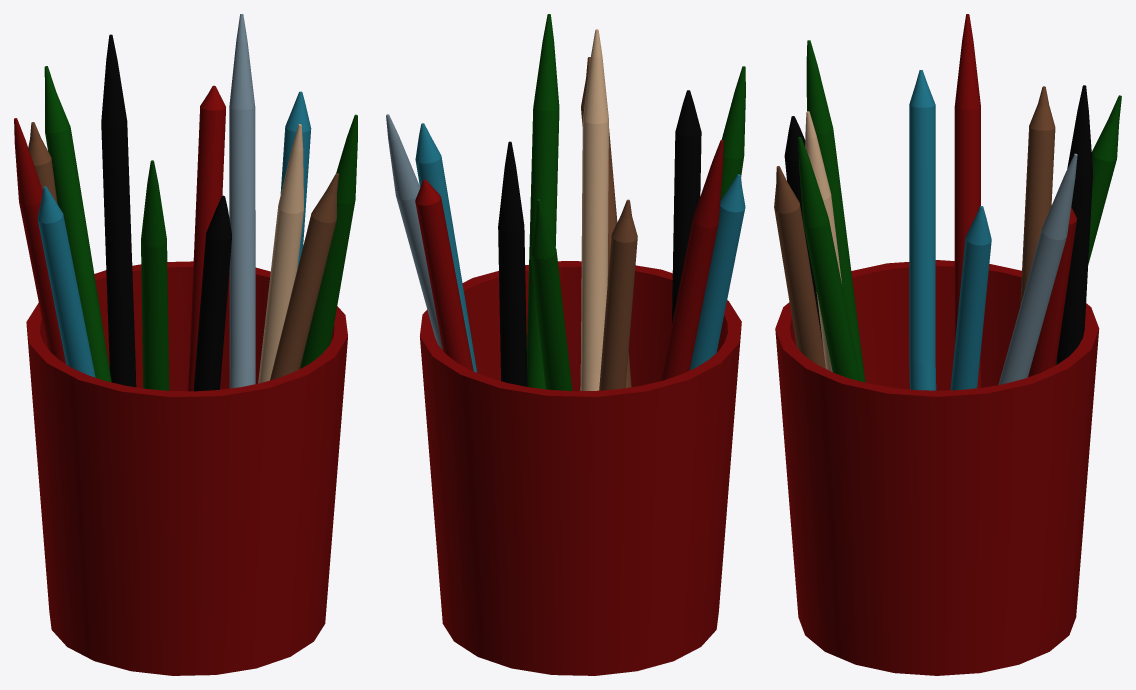
The model's file is PotCrayon_4.fbx.
The picture shows the model from 3 angles, left to right: view 1: azimuth 30°, elevation 25°; view 2: azimuth 150°, elevation 25°; view 3: azimuth 270°, elevation 25°; orthographic projection.
Parts seen in each view (by area): view 1: pPipe106, pCylinder207, pCylinder205, pCylinder230, pCylinder229, pCylinder227, pCylinder232, pCylinder214, pCylinder203, pCylinder231, pCylinder197, pCylinder235 (+2 smaller); view 2: pPipe106, pCylinder227, pCylinder197, pCylinder205, pCylinder235, pCylinder214, pCylinder204, pCylinder230, pCylinder231, pCylinder203, pCylinder207, pCylinder240 (+2 smaller); view 3: pPipe106, pCylinder231, pCylinder197, pCylinder235, pCylinder207, pCylinder205, pCylinder232, pCylinder240, pCylinder229, pCylinder204, pCylinder214, pCylinder230 (+2 smaller).
Boxes of the visible parts, <box> form: pPipe106: <box>26,261,347,675</box>; pCylinder207: <box>229,14,255,388</box>; pCylinder205: <box>101,34,136,387</box>; pCylinder230: <box>44,66,111,382</box>; pCylinder229: <box>141,160,169,390</box>; pCylinder227: <box>258,124,303,383</box>; pCylinder232: <box>270,173,338,380</box>; pCylinder214: <box>188,85,225,391</box>; pCylinder203: <box>193,195,231,391</box>; pCylinder231: <box>37,186,95,377</box>; pCylinder197: <box>300,114,357,368</box>; pCylinder235: <box>14,118,65,363</box>; pPipe106: <box>420,261,741,675</box>; pCylinder227: <box>580,29,608,390</box>; pCylinder197: <box>526,14,559,389</box>; pCylinder205: <box>498,141,527,386</box>; pCylinder235: <box>661,140,723,380</box>; pCylinder214: <box>415,179,473,371</box>; pCylinder204: <box>599,199,637,390</box>; pCylinder230: <box>530,199,572,390</box>; pCylinder231: <box>689,174,745,370</box>; pCylinder203: <box>672,90,701,323</box>; pCylinder207: <box>386,114,442,349</box>; pCylinder240: <box>415,123,477,372</box>; pPipe106: <box>775,260,1099,675</box>; pCylinder231: <box>909,70,936,390</box>; pCylinder197: <box>798,137,860,381</box>; pCylinder235: <box>954,14,981,388</box>; pCylinder207: <box>998,153,1077,384</box>; pCylinder205: <box>1056,85,1092,364</box>; pCylinder232: <box>774,166,825,368</box>; pCylinder240: <box>950,206,991,390</box>; pCylinder229: <box>806,40,865,382</box>; pCylinder204: <box>1020,86,1055,305</box>; pCylinder214: <box>1028,207,1076,377</box>; pCylinder230: <box>1056,95,1121,364</box>.
Size of the model in its own units: 7.61 by 12.8 by 7.61.
